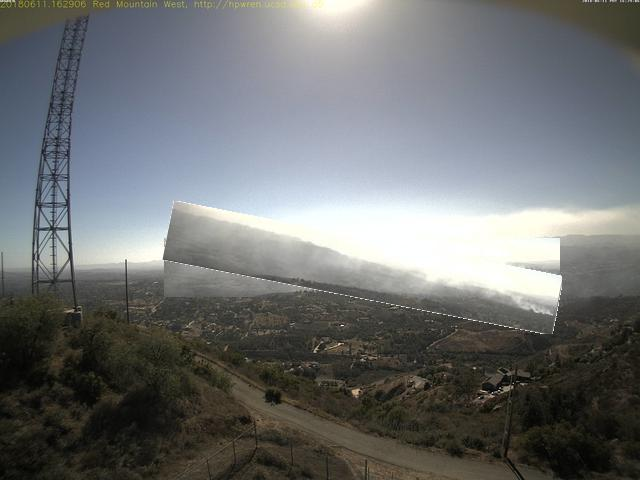smoke: (164, 221, 563, 318)
